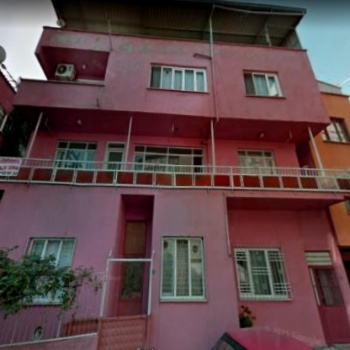door: (302, 268, 350, 346), (117, 261, 144, 318), (104, 143, 125, 169)
